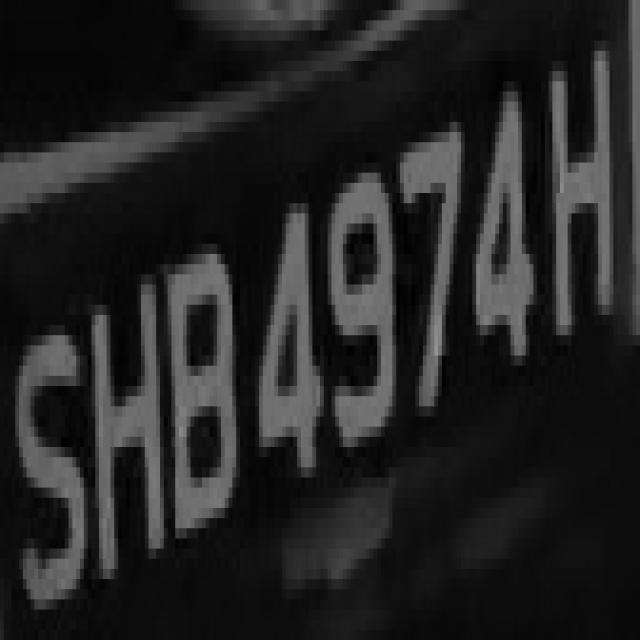4: (244, 142, 328, 518), (468, 61, 534, 386)
7: (392, 81, 468, 447)
9: (328, 142, 403, 498)
B: (160, 203, 248, 559)
H: (84, 254, 171, 589), (541, 10, 613, 356)
S: (3, 294, 88, 620)
